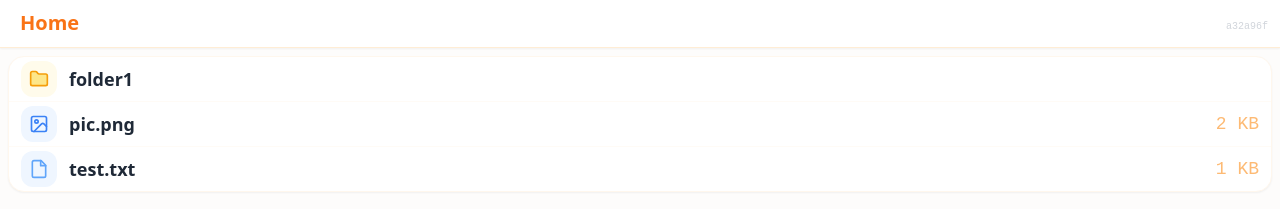
Test case: switches to viewer mode on file click
# Click on the icon/container part, not the text to avoid rename
What coordinates should you click on to do the following:
click the element showing "test.txt"
I would click on:
 (102, 169)
Its box is [69,157,135,181].
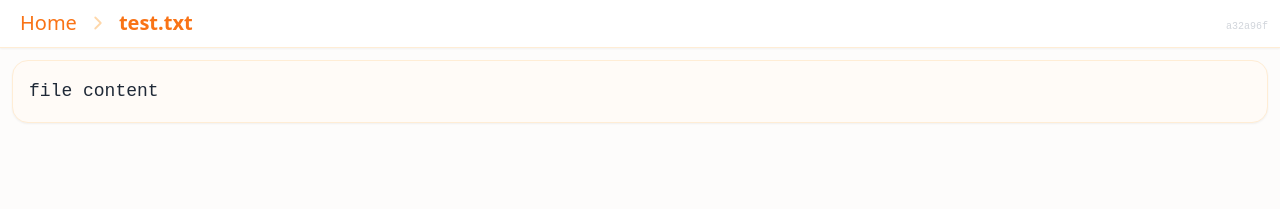
Check: the text "file content" is shown, box [12,60,1268,123]
